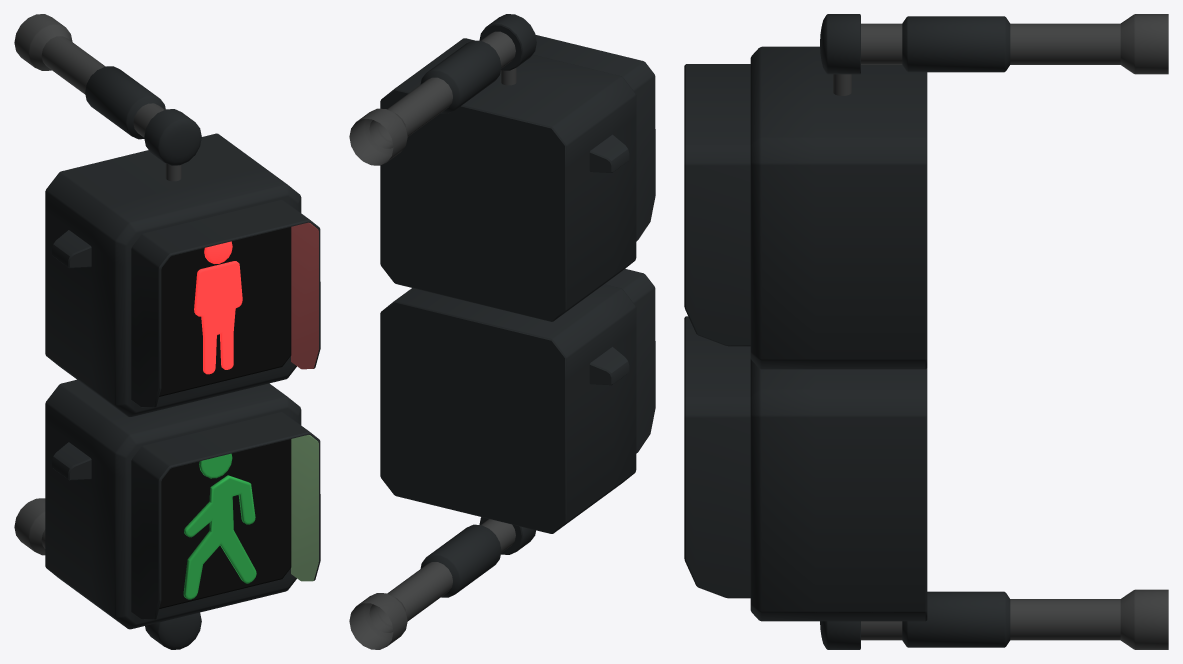
File: Walking.gltf
3 renders of one model, left to right at view 1: azimuth 30°, elevation 25°; view 2: azimuth 150°, elevation 25°; view 3: azimuth 270°, elevation 25°, orthographic. The views are drawn at different scales.
Visible parts, largest first — view 1: Cube.001, Cube.004, Cube.003, Cube.005, Cube.002, Cube.006, Plane.004, Plane.005, Cylinder.008, Cylinder.006, Cylinder.007, Cylinder.005 (+4 smaller); view 2: Cube.001, Cube.004, Cube.002, Cube.005, Cylinder.006, Cylinder.010, Cylinder.008, Cylinder.012, Cylinder.005, Cylinder.009, Cylinder.007, Cylinder.011; view 3: Cube.001, Cube.004, Cube.002, Cube.005, Cylinder.006, Cylinder.008, Cylinder.010, Cylinder.012, Cylinder.005, Cylinder.009, Cylinder.007, Cylinder.011.
Part boxes in pixels (x1=…): Cube.001: x1=45, y1=133, x2=301, y2=416; Cube.004: x1=45, y1=379, x2=301, y2=629; Cube.003: x1=159, y1=227, x2=291, y2=396; Cube.005: x1=131, y1=412, x2=320, y2=619; Cube.002: x1=131, y1=200, x2=320, y2=407; Cube.006: x1=159, y1=439, x2=291, y2=608; Plane.004: x1=183, y1=475, x2=256, y2=599; Plane.005: x1=194, y1=261, x2=242, y2=374; Cylinder.008: x1=85, y1=66, x2=165, y2=139; Cylinder.006: x1=41, y1=36, x2=164, y2=137; Cylinder.007: x1=144, y1=109, x2=201, y2=165; Cylinder.005: x1=14, y1=14, x2=72, y2=70; Cube.001: x1=380, y1=38, x2=636, y2=321; Cube.004: x1=380, y1=284, x2=636, y2=533; Cube.002: x1=533, y1=34, x2=655, y2=241; Cube.005: x1=604, y1=269, x2=655, y2=453; Cylinder.006: x1=369, y1=31, x2=515, y2=148; Cylinder.010: x1=369, y1=519, x2=515, y2=632; Cylinder.008: x1=420, y1=40, x2=501, y2=113; Cylinder.012: x1=420, y1=524, x2=501, y2=597; Cylinder.005: x1=349, y1=108, x2=407, y2=165; Cylinder.009: x1=349, y1=593, x2=407, y2=649; Cylinder.007: x1=479, y1=14, x2=536, y2=70; Cylinder.011: x1=479, y1=517, x2=535, y2=554; Cube.001: x1=750, y1=46, x2=927, y2=369; Cube.004: x1=750, y1=359, x2=927, y2=621; Cube.002: x1=684, y1=64, x2=750, y2=346; Cube.005: x1=684, y1=316, x2=750, y2=598; Cylinder.006: x1=861, y1=23, x2=1120, y2=64; Cylinder.008: x1=902, y1=16, x2=1010, y2=72; Cylinder.010: x1=861, y1=599, x2=1120, y2=640; Cylinder.012: x1=902, y1=591, x2=1010, y2=647; Cylinder.005: x1=1120, y1=14, x2=1168, y2=74; Cylinder.009: x1=1120, y1=589, x2=1168, y2=649; Cylinder.007: x1=820, y1=14, x2=860, y2=74; Cylinder.011: x1=820, y1=621, x2=860, y2=649.
Size of the model in its own units: 0.091 by 0.2235 by 0.1556.
